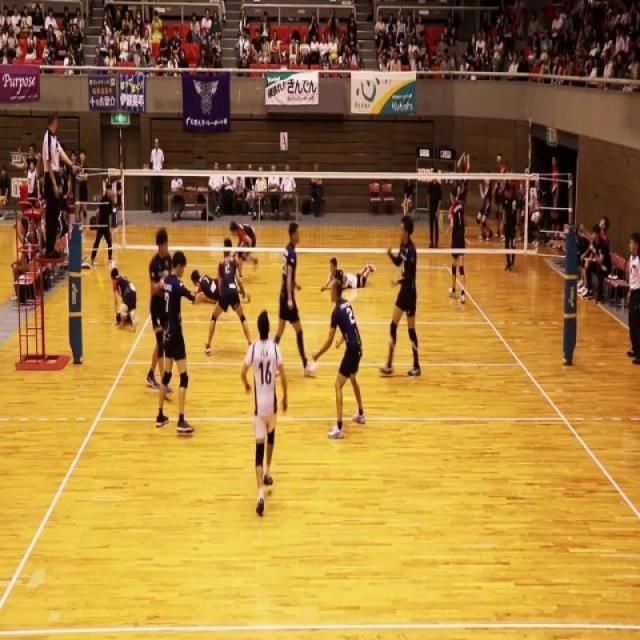volleyball: (108, 259, 116, 272)
